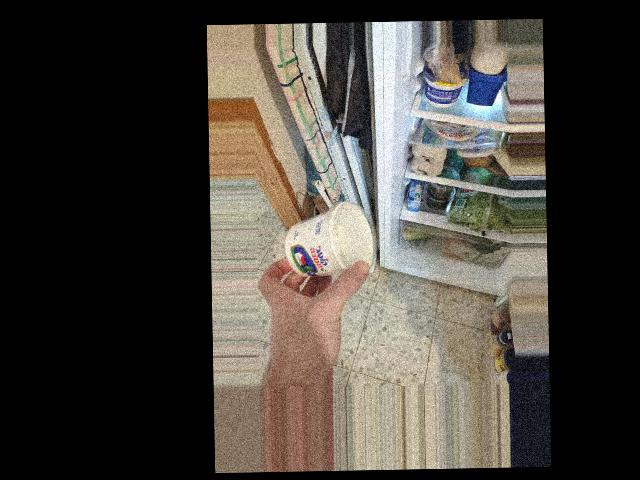cotage: (284, 199, 355, 285)
